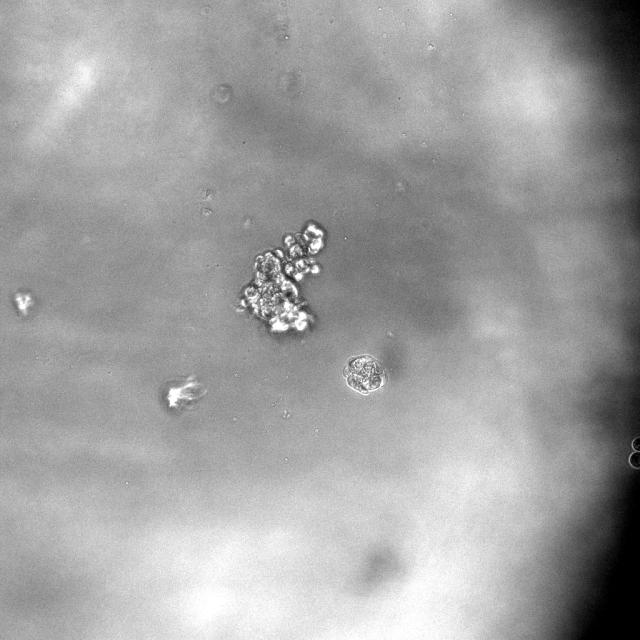organoid: (241, 221, 324, 332), (342, 354, 385, 395), (161, 376, 206, 411), (628, 437, 639, 468)
